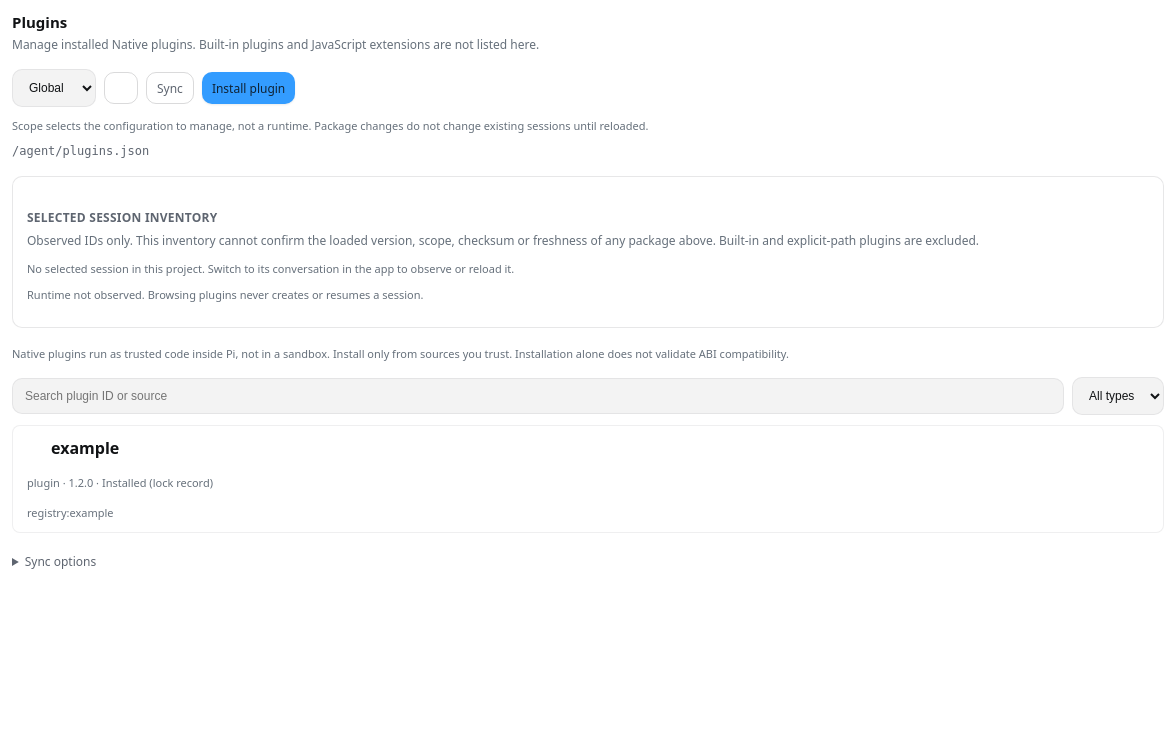
SettingsPluginsSection › disables untrusted project actions and surfaces backend trust failures
Expected: the button "example" is shown, [27, 438, 119, 460]
Step 1. Select "Project" in the dropdown named "Configuration scope" → (54, 88), box [12, 69, 96, 107]
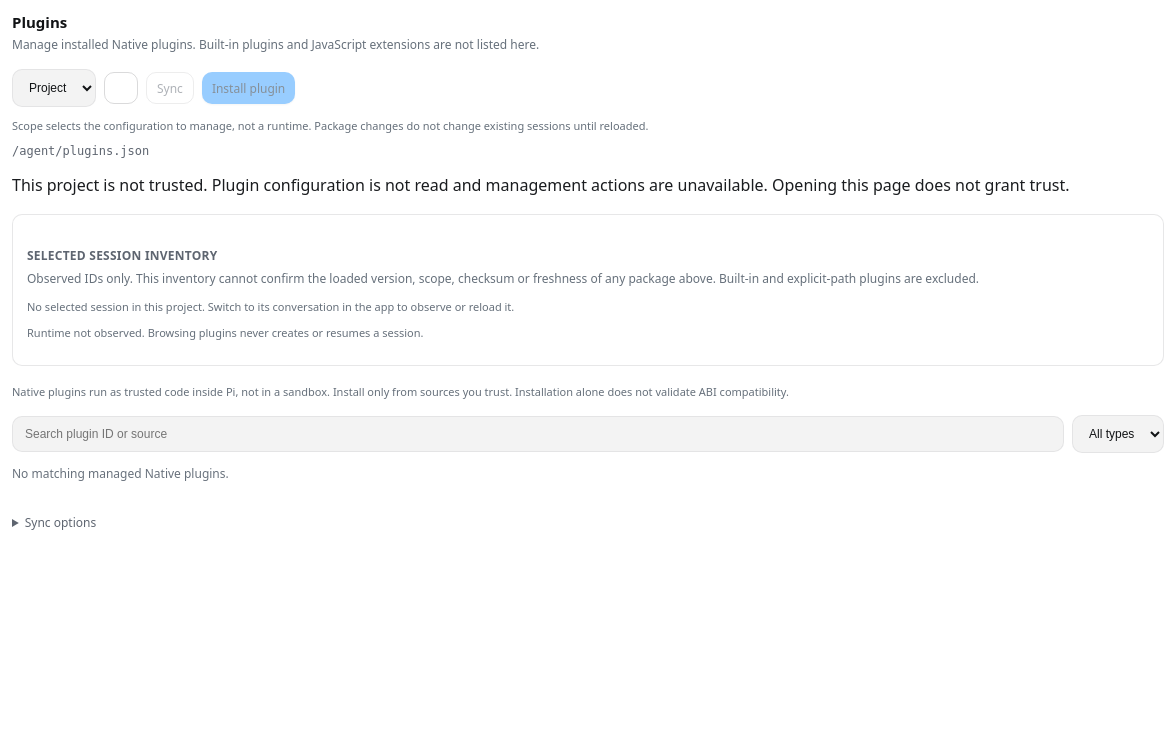
Now the text "This project is not trusted" is shown, box [12, 174, 1070, 196]
Now the button "Sync" is disabled, box [146, 72, 194, 104]
Now the button "Install plugin" is disabled, box [202, 72, 295, 104]
Step 2. Select "Global" in the dropdown named "Configuration scope" → (54, 88), box [12, 69, 96, 107]
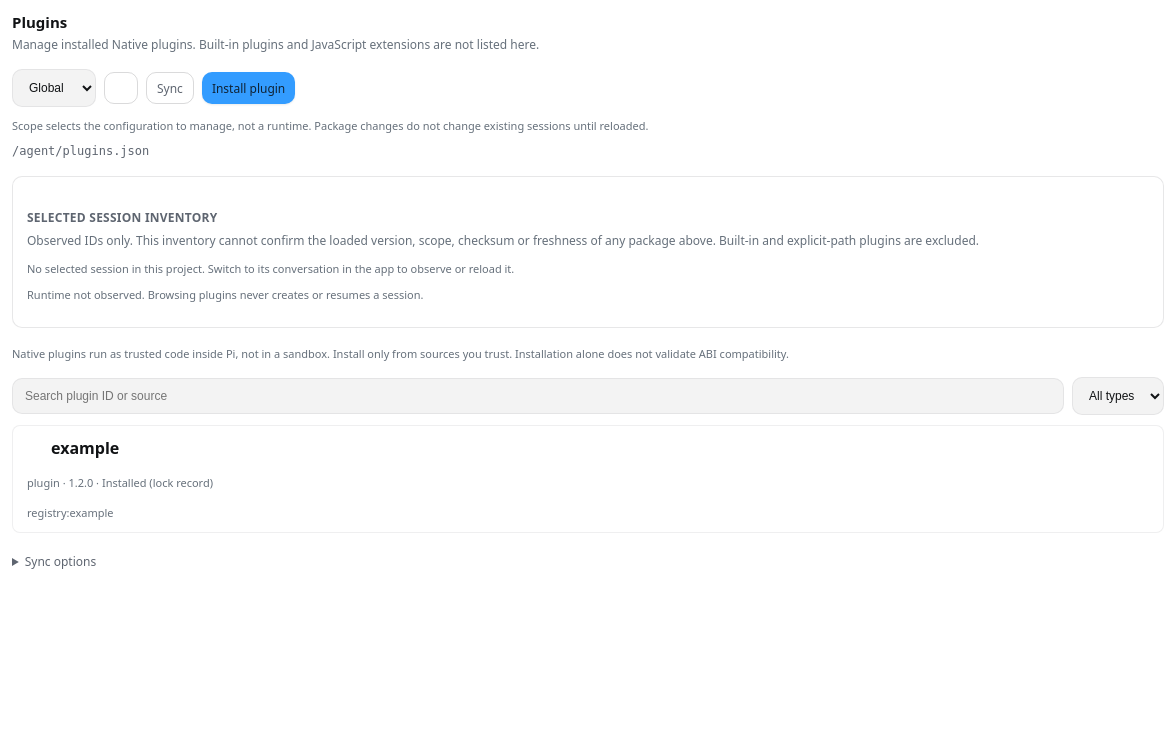
Now the button "example" is shown, box [27, 438, 119, 460]
Step 3. Click the button "Sync" → (170, 88), box [146, 72, 194, 104]
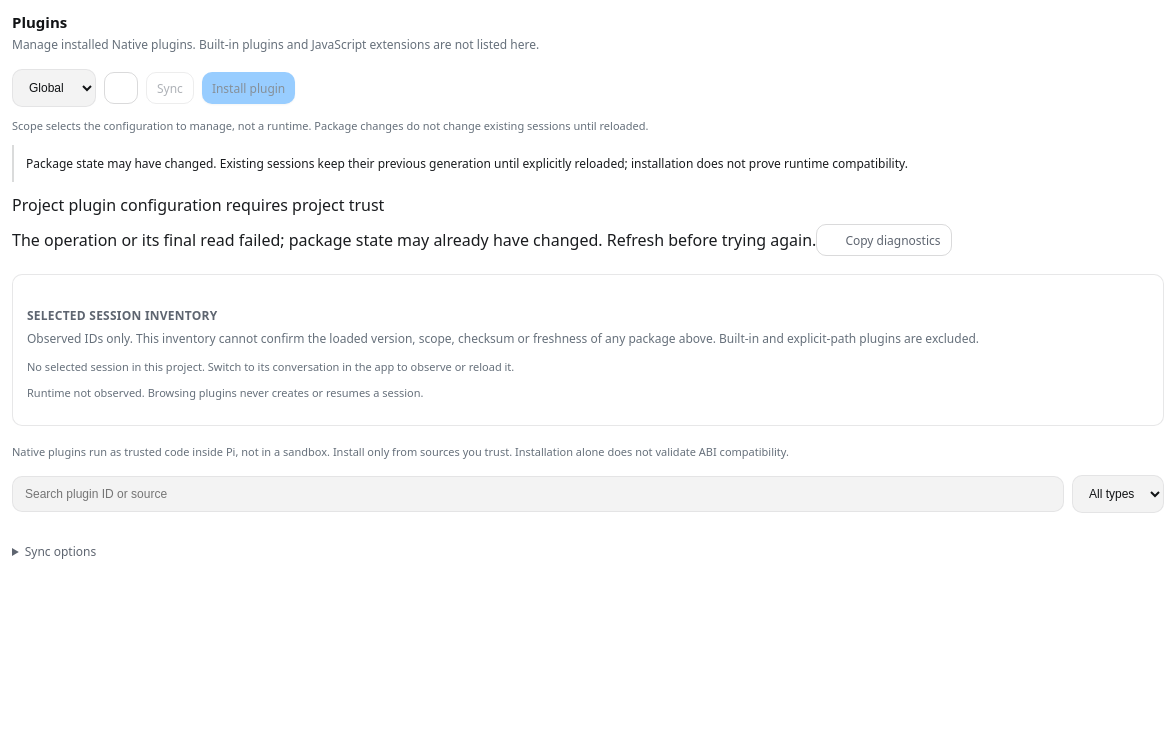
Now the text "package state may already have changed" is shown, box [12, 194, 816, 251]
Now the button "Sync" is disabled, box [146, 72, 194, 104]
Step 4. Click the button named "Refresh plugin snapshots" → (121, 88), box [104, 72, 138, 104]
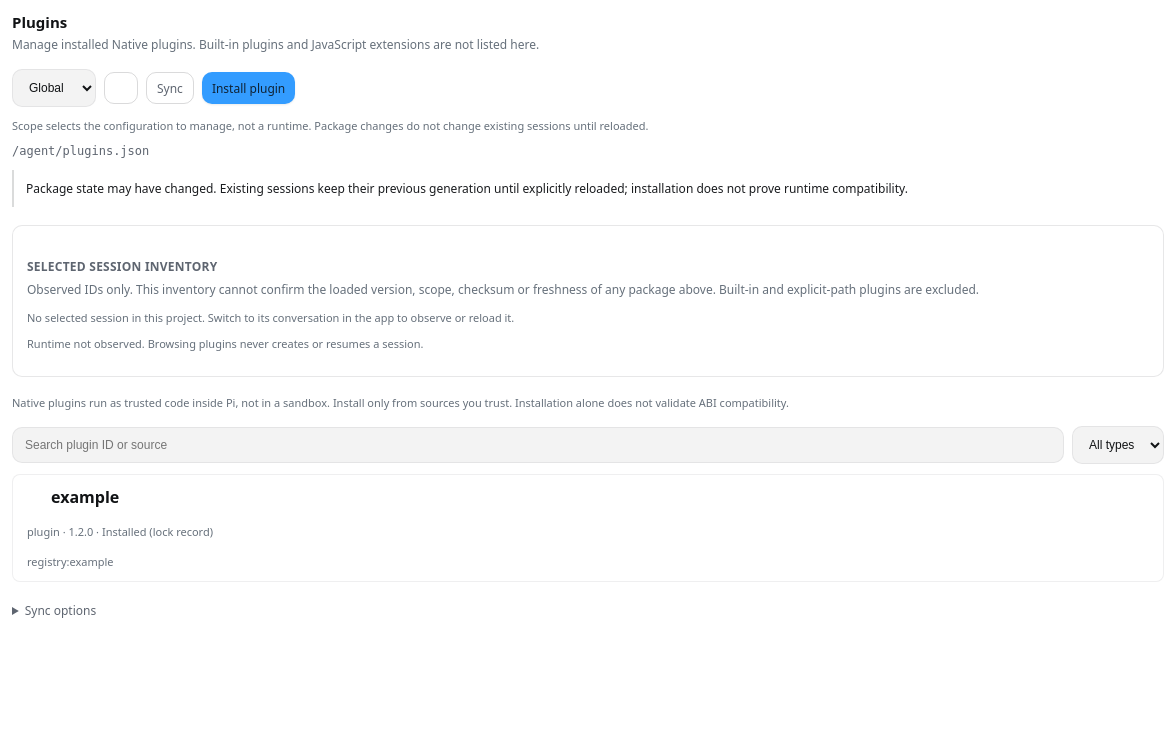
Now the button "example" is shown, box [27, 487, 119, 509]
